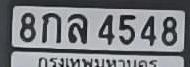4: (97, 13, 113, 44), (140, 15, 155, 45)
5: (118, 14, 135, 44)
8: (19, 12, 35, 41), (161, 16, 176, 45)
A01: (41, 12, 60, 42)
A36: (66, 13, 86, 42)
